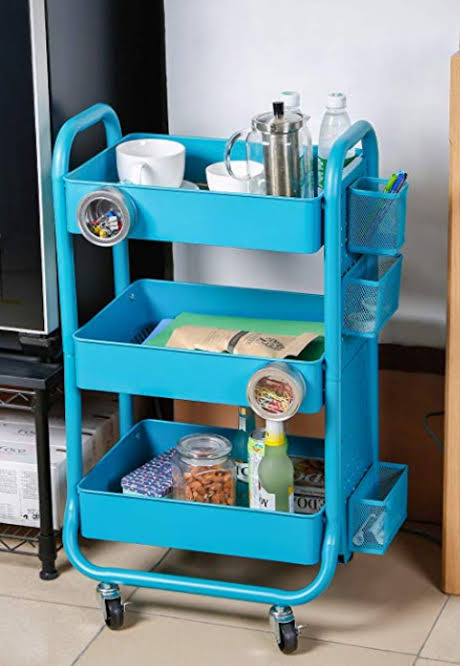Carts: (52, 103, 410, 657)
